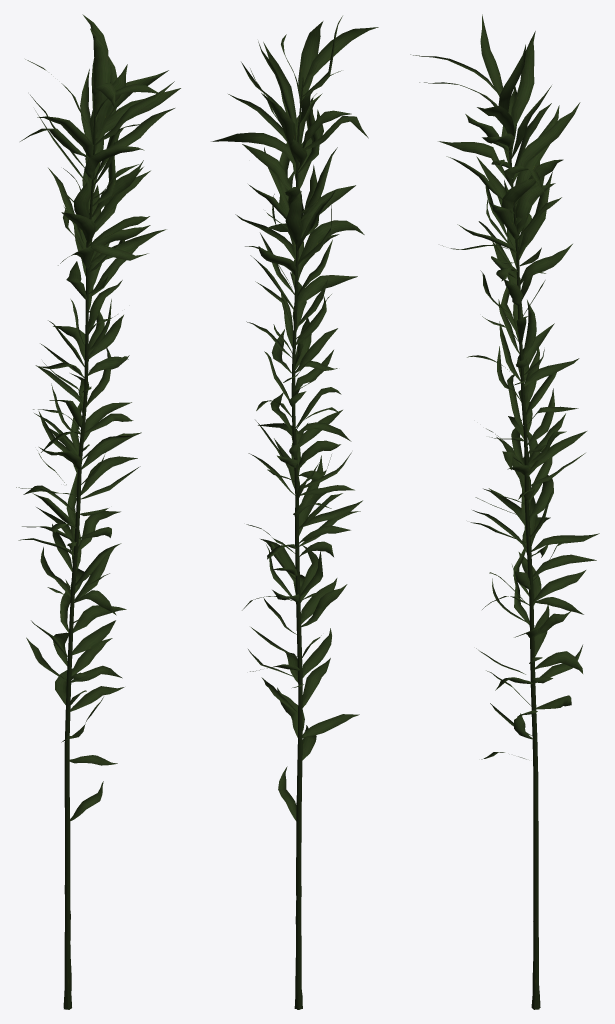
The model's file is water-plant1.glb.
The picture shows the model from 3 angles, left to right: view 1: azimuth 30°, elevation 25°; view 2: azimuth 150°, elevation 25°; view 3: azimuth 270°, elevation 25°; orthographic projection.
Size of the model in its own units: 0.3288 by 2.06 by 0.364.
Materials: 1 (1 with a texture image).
